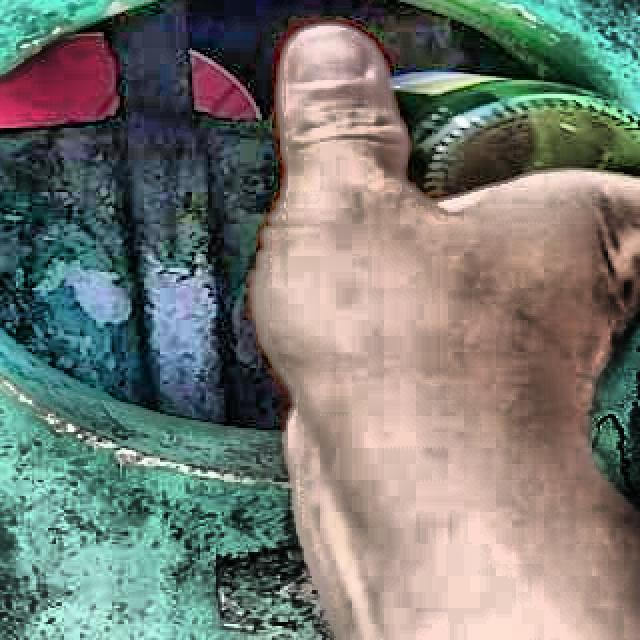glass: (403, 78, 640, 199)
